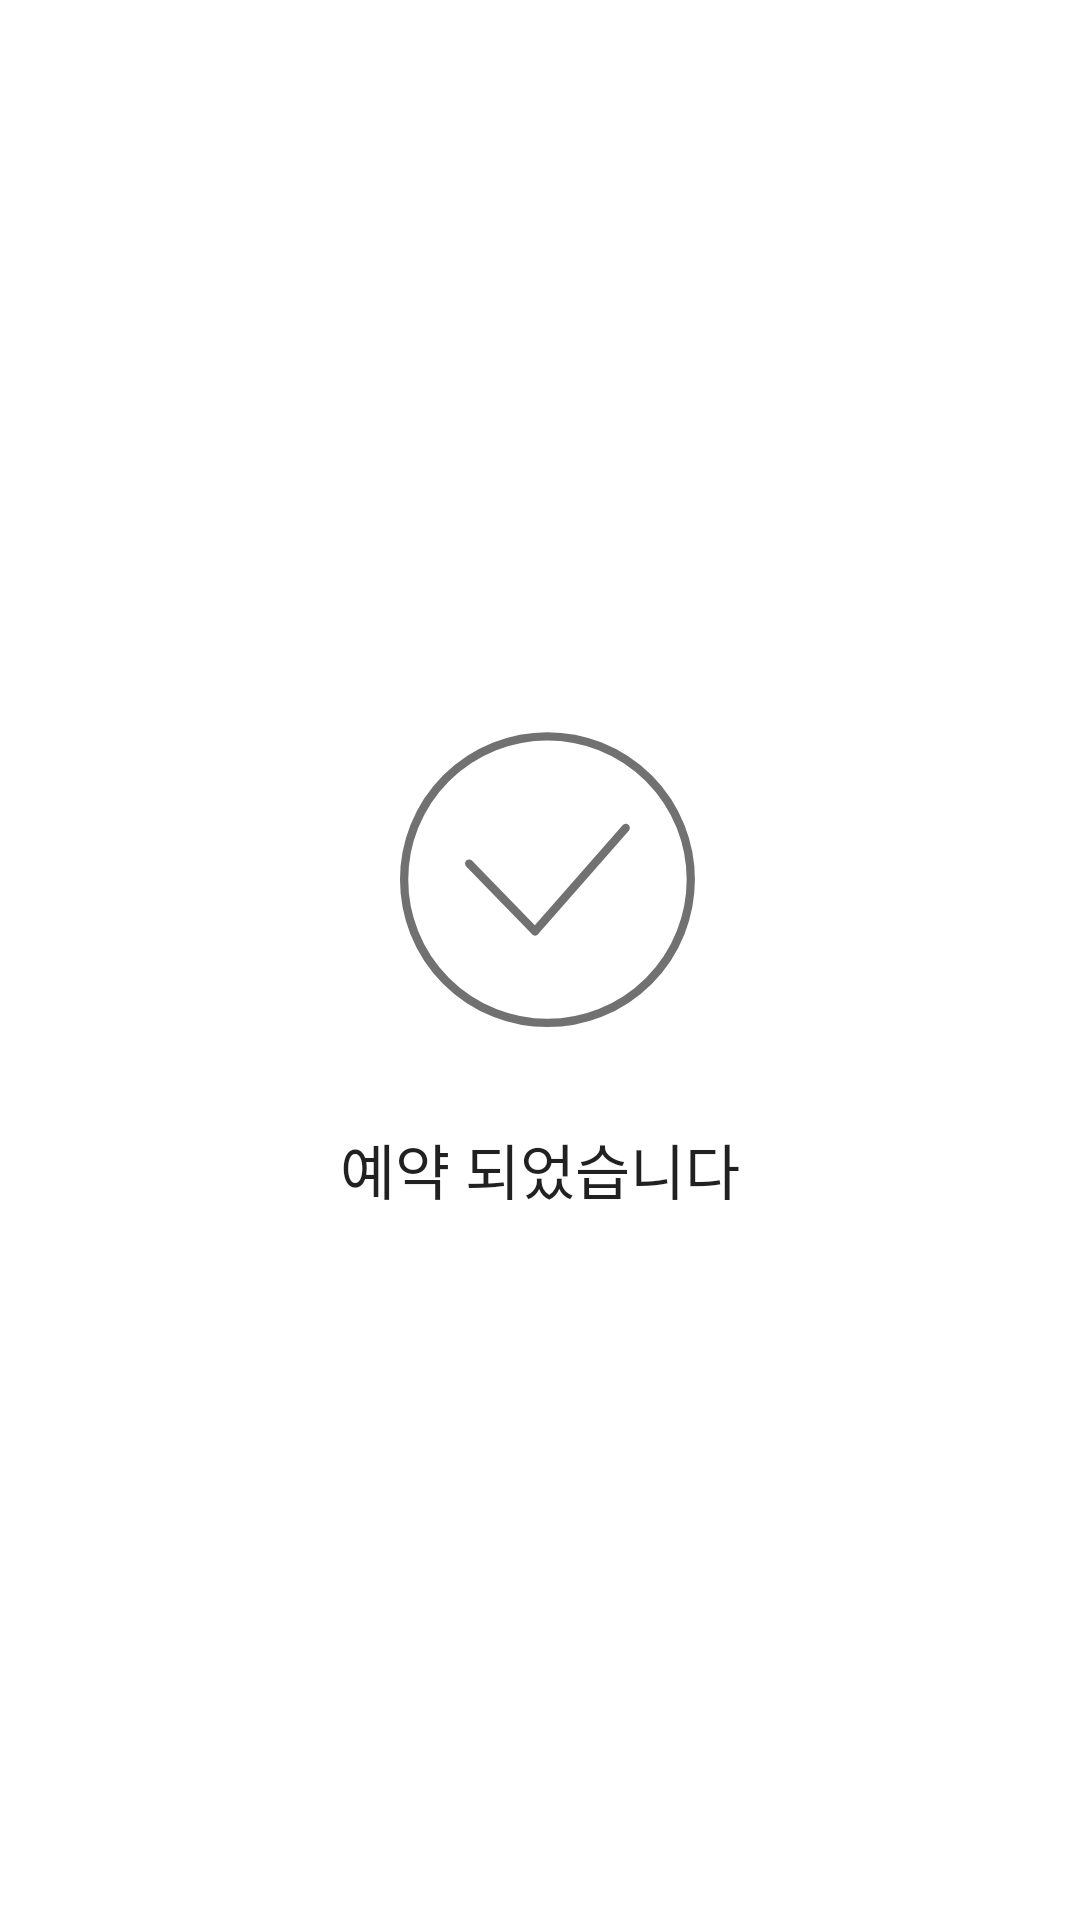

Screen size 1080w x 1920h. Icon name, then its center in pixels as (x,y):
reservation check: (547,879)
